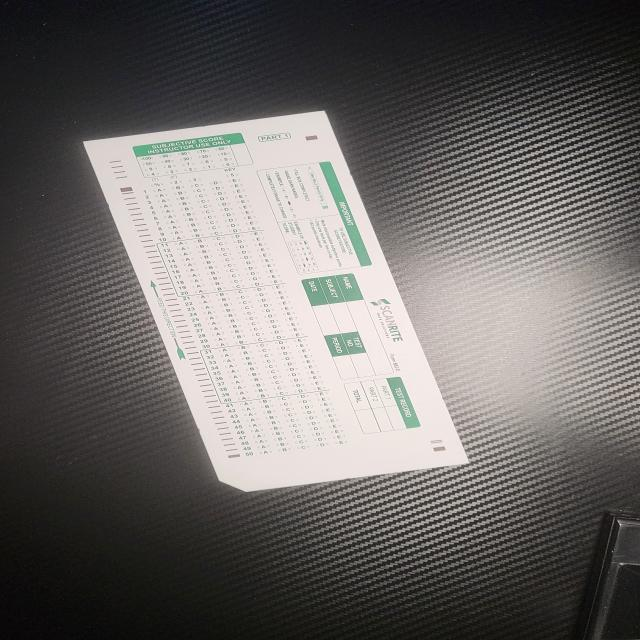scantron: (78, 108, 472, 493)
